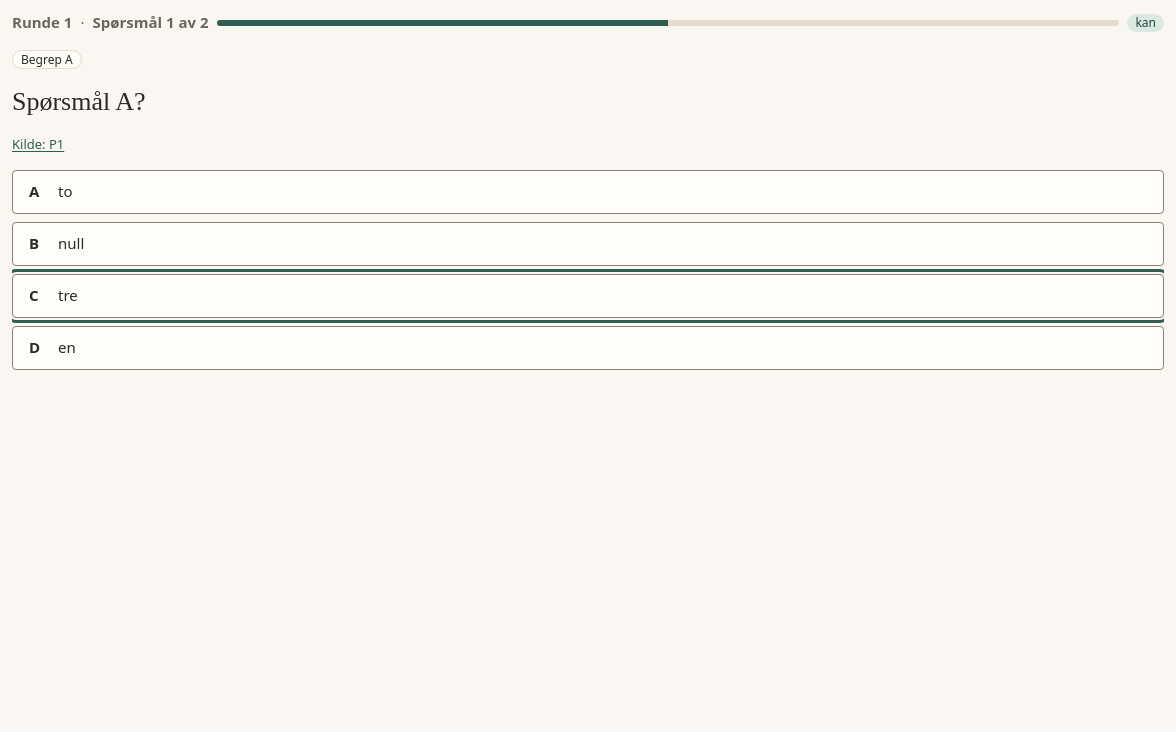
Quiz region, answering › a failed save: no feedback, err.generation named by every option, the options work again
The image size is (1176, 732).
Click the button "C tre".
click(34, 295)  # box 12,274 -> 1164,318
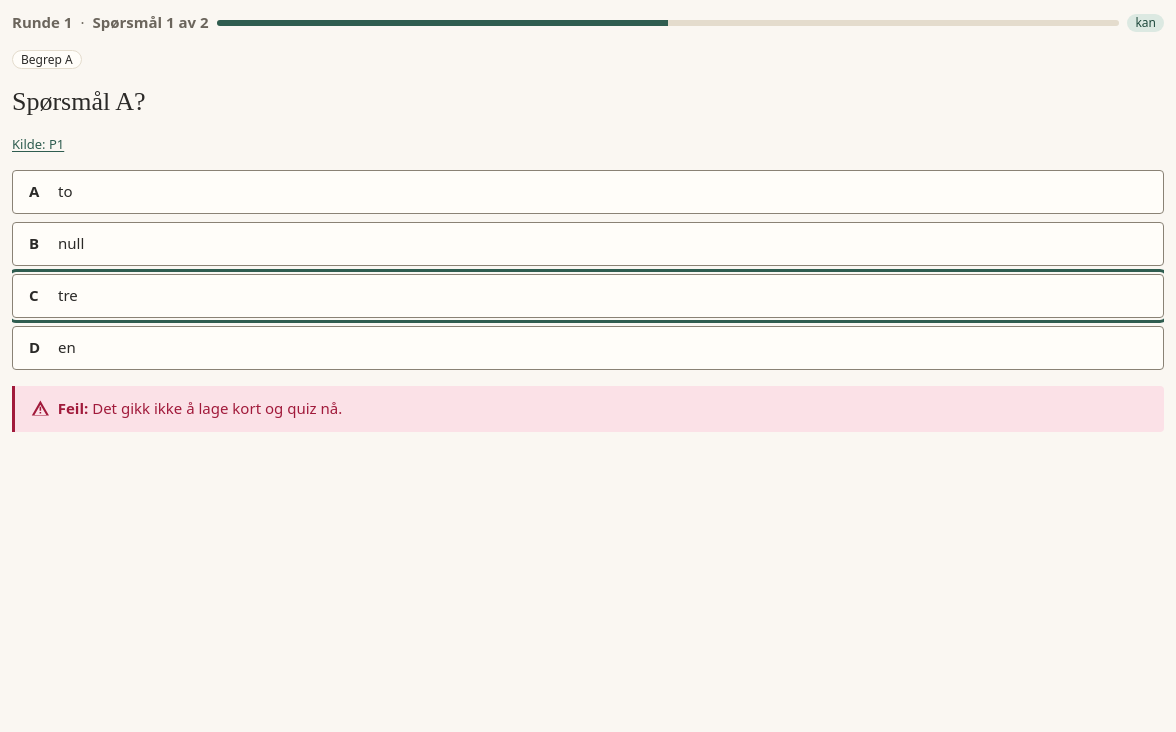
Expected: the message "Feil: Det gikk ikke å lage kort og quiz nå." is shown, 12,386 -> 1164,432
Click the button "C tre".
click(34, 295)  # box 12,274 -> 1164,318
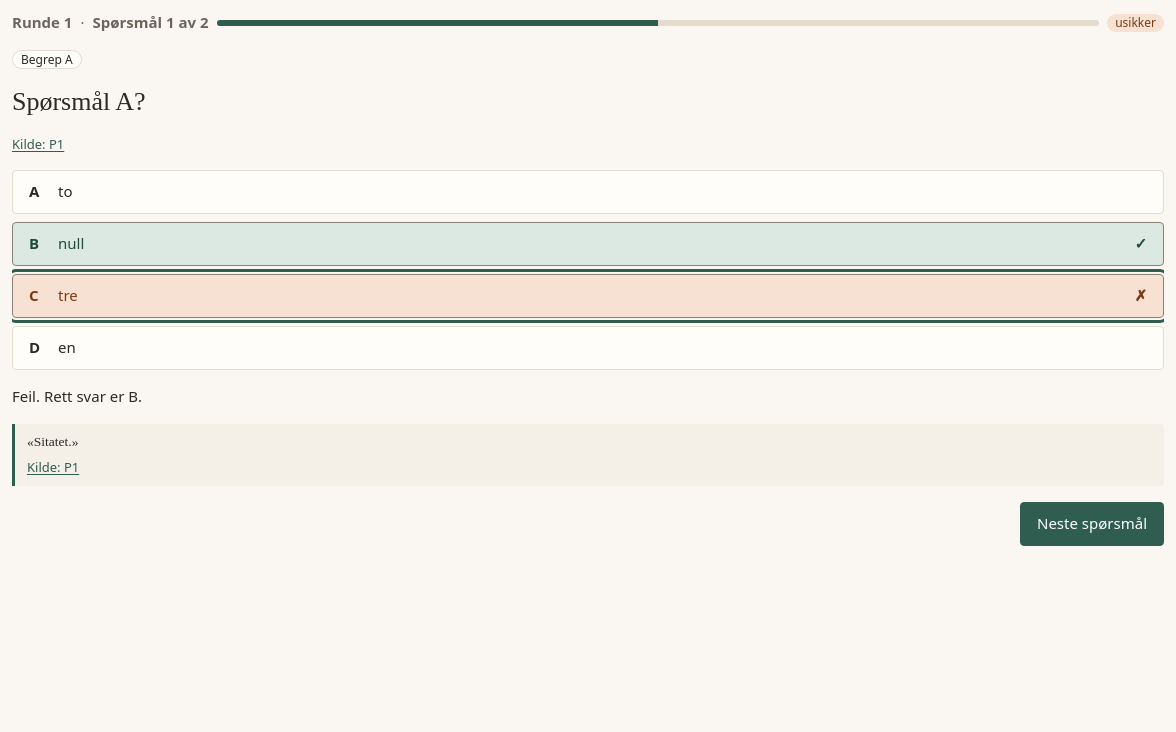
Expected: the message "Feil: Det gikk ikke å lage kort og quiz nå." is gone
Expected: the text "Feil. Rett svar er B." is shown, 12,386 -> 142,406
